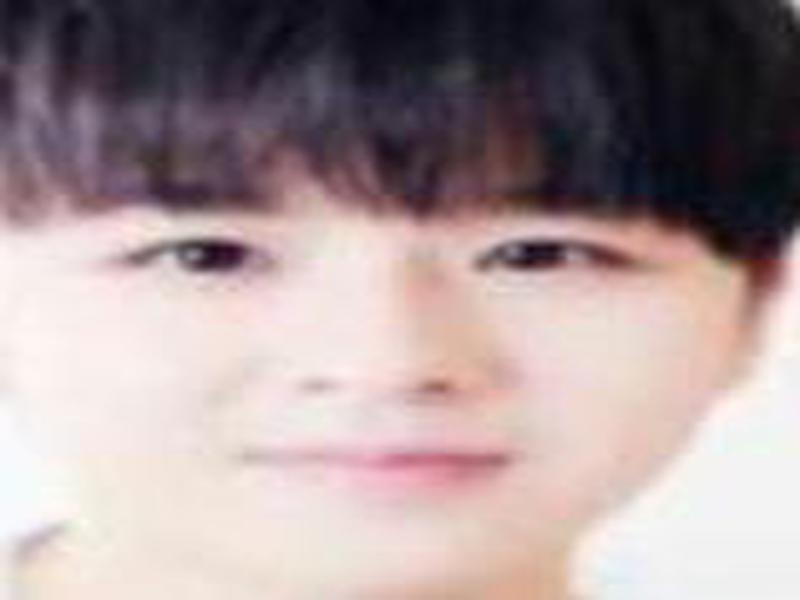without_mask: (16, 163, 751, 582)
